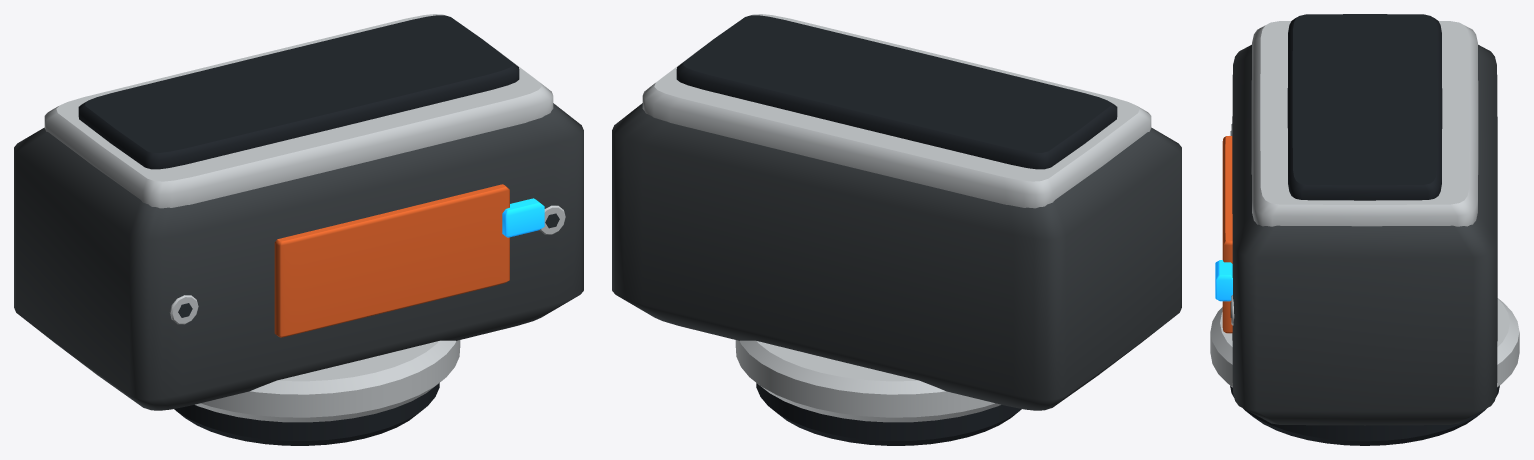
3 renders of one model, left to right at view 1: azimuth 30°, elevation 25°; view 2: azimuth 150°, elevation 25°; view 3: azimuth 270°, elevation 25°, orthographic. The views are drawn at different scales.
Parts seen in each view (by area): view 1: J6; view 2: J6; view 3: J6.
Boxes of the visible parts, <box> form: J6: <box>14,14,583,445</box>; J6: <box>612,14,1181,445</box>; J6: <box>1210,14,1519,445</box>.
Bounding box in the file's own units: 0.104 × 0.067 × 0.064.
